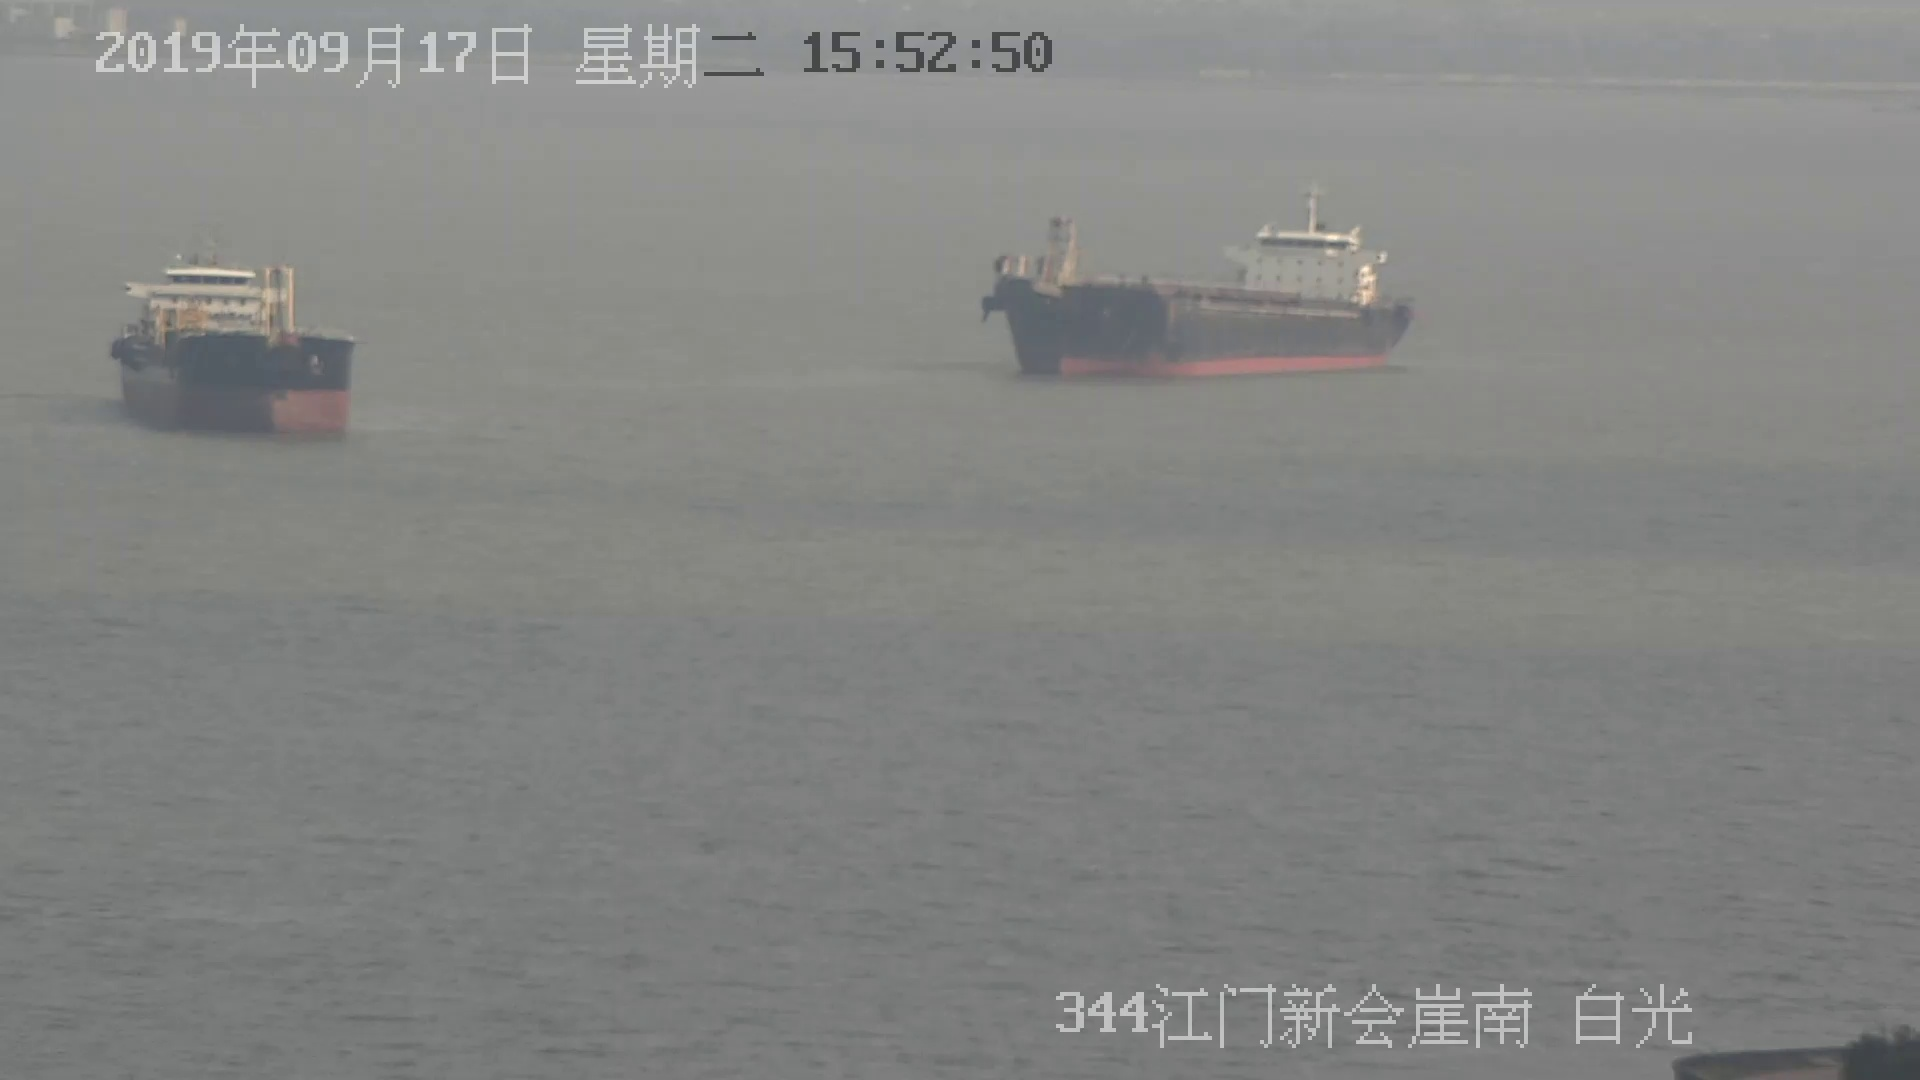ship: (976, 179, 1414, 381), (104, 236, 367, 440)
